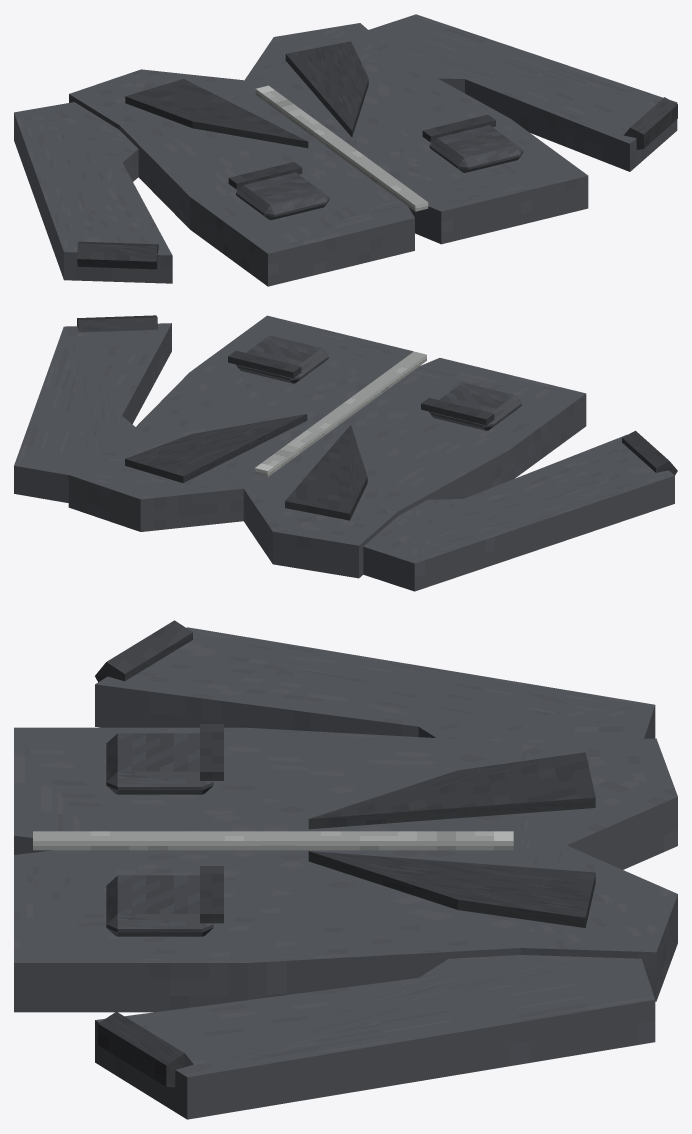
The model's file is leather_police_jacket.glb.
The picture shows the model from 3 angles, top to bottom: view 1: azimuth 30°, elevation 25°; view 2: azimuth 150°, elevation 25°; view 3: azimuth 270°, elevation 25°; orthographic projection. The views are drawn at different scales.
Parts seen in each view (by area): view 1: block_coat body, block_sleeve (×2), block_lapel (×2), block_patch pocket (×2), block_cuff 0 (×2), block_zipper track, block_pocket welt (×2); view 2: block_coat body, block_sleeve (×2), block_lapel (×2), block_patch pocket (×2), block_zipper track, block_cuff 0 (×2), block_pocket welt (×2); view 3: block_coat body, block_sleeve (×2), block_lapel (×2), block_patch pocket (×2), block_zipper track, block_cuff 0 (×2), block_pocket welt (×2).
Part boxes in pixels (x1,y1,x2,y2): block_coat body: (69,23,588,286); block_sleeve (×2): (14,14,677,283); block_lapel (×2): (125,41,368,148); block_patch pocket (×2): (236,125,523,220); block_cuff 0 (×2): (77,97,677,269); block_zipper track: (255,85,428,211); block_pocket welt (×2): (228,114,495,189); block_coat body: (68,315,586,578); block_sleeve (×2): (14,323,674,591); block_lapel (×2): (125,414,367,520); block_patch pocket (×2): (236,335,521,430); block_zipper track: (254,351,426,477); block_cuff 0 (×2): (77,315,677,475); block_pocket welt (×2): (228,350,494,425); block_coat body: (14,727,677,1012); block_sleeve (×2): (95,627,655,1119); block_lapel (×2): (308,752,595,927); block_patch pocket (×2): (106,733,213,936); block_zipper track: (33,831,513,850); block_cuff 0 (×2): (95,620,193,1087); block_pocket welt (×2): (200,724,223,923).
Bounding box in the file's own units: 0.7212 × 0.0565 × 0.4497.
1 material, 1 textured.
